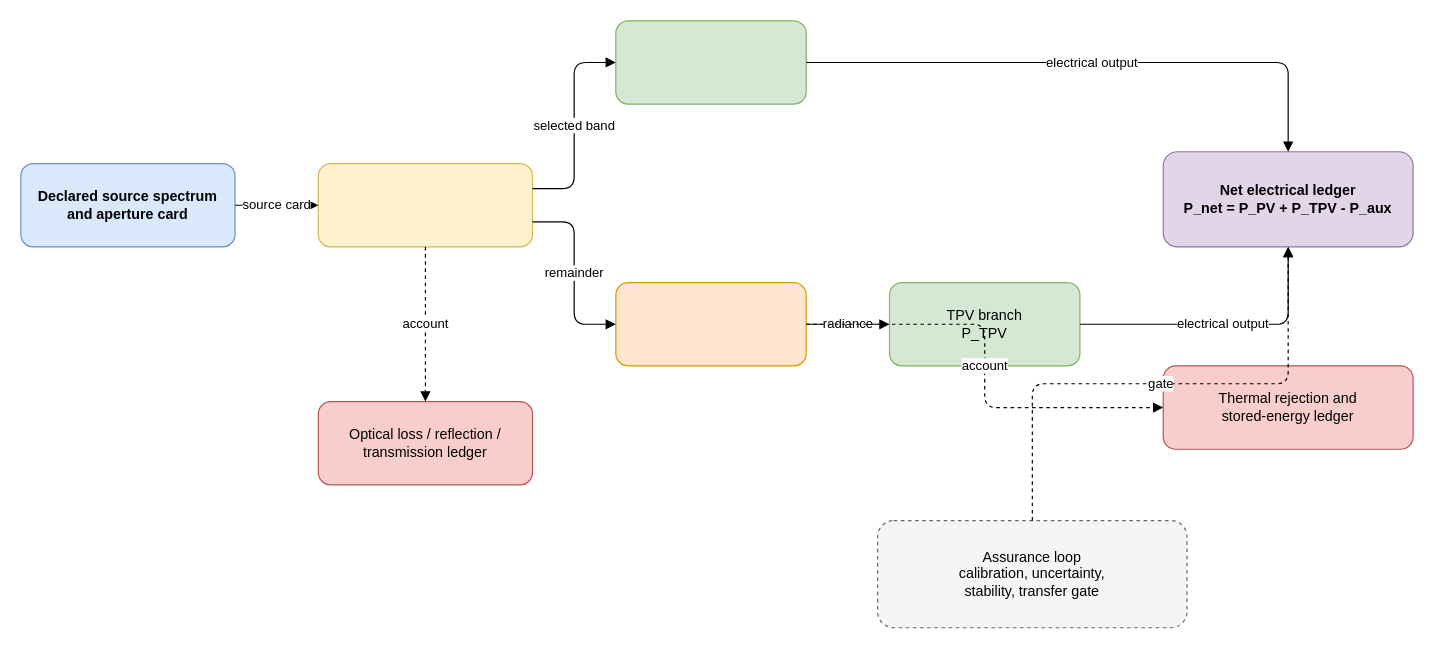
The diagram is 1434 pixels wide and 649 high, and some of its shapes have lost their labels. Each missing label, with the centre of its shape:
Direct PV branch P_PV: [710,62]
Optical partition card spectral routing and loss: [425,204]
Thermal receiver / selective emitter card: [710,323]
